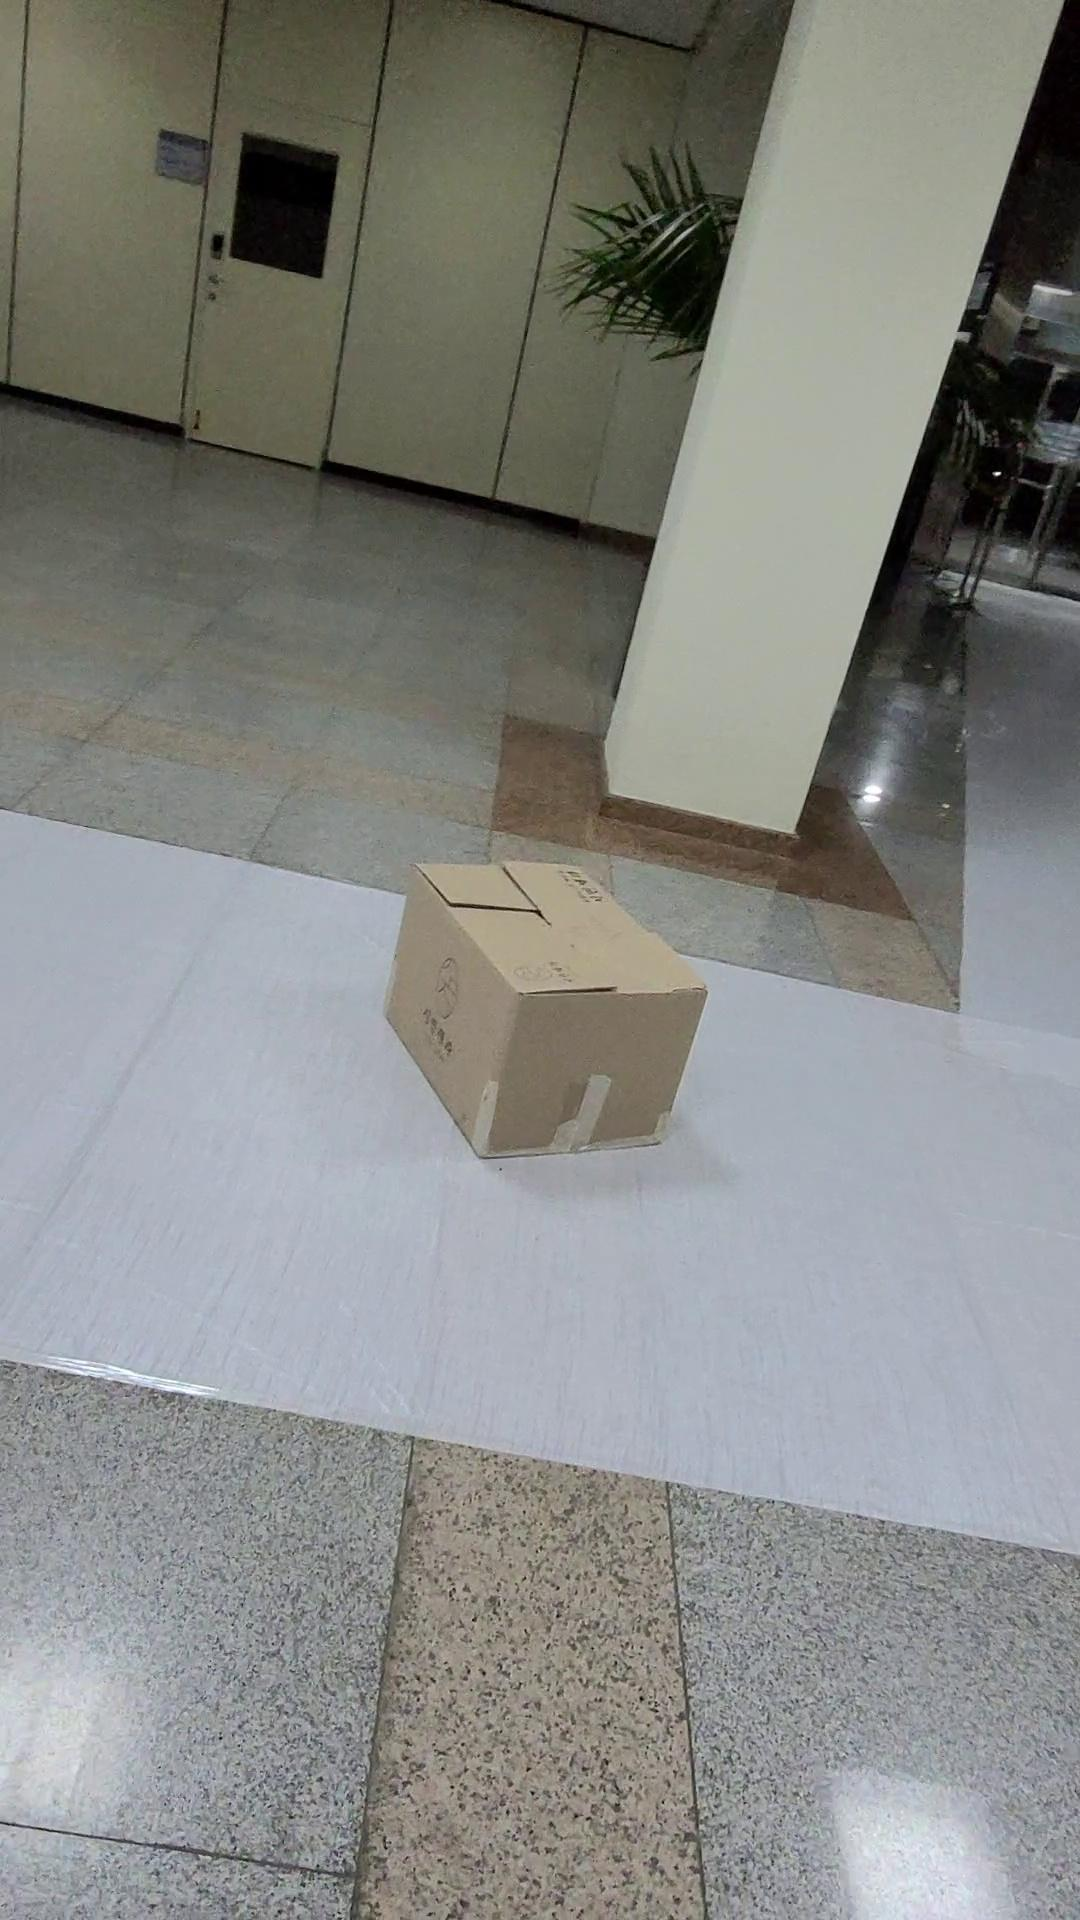Box: (353, 823, 737, 1244)
